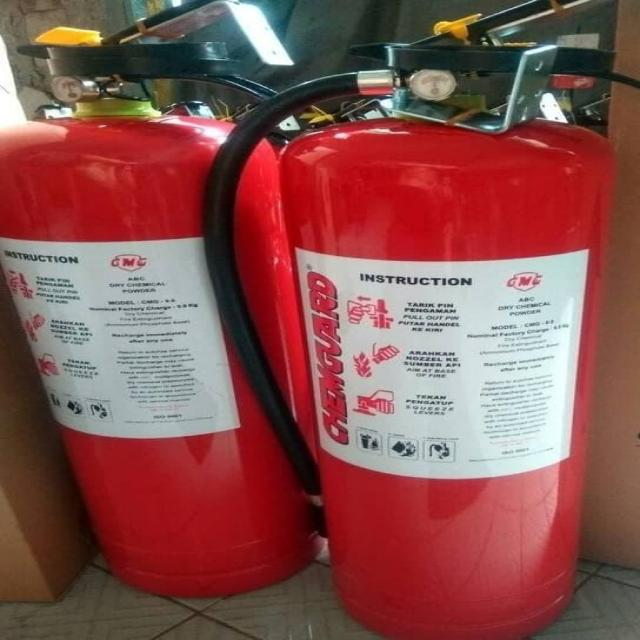fire_extinguisher: (196, 0, 639, 639), (0, 11, 339, 601)
